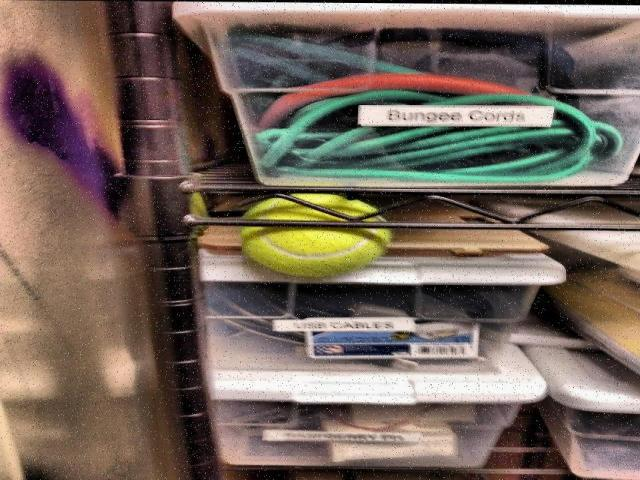tennis-ball: (243, 190, 393, 282)
